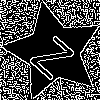Z: (28, 27, 83, 81)
